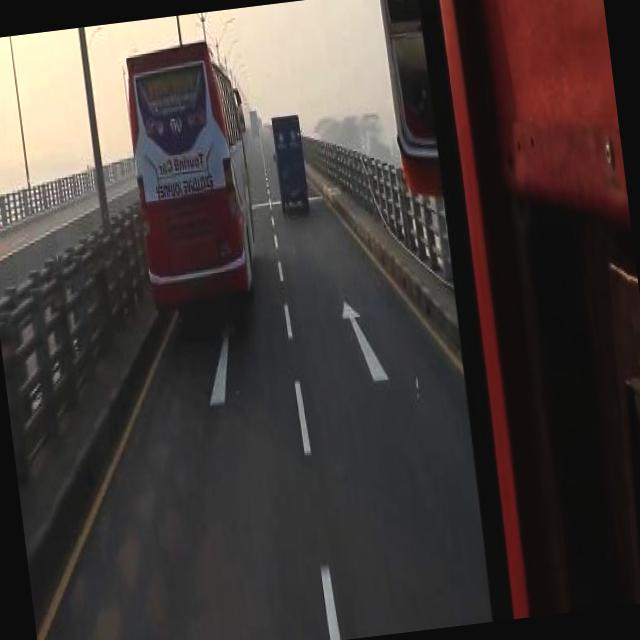bus: (123, 28, 267, 304)
truck: (270, 108, 310, 206)
